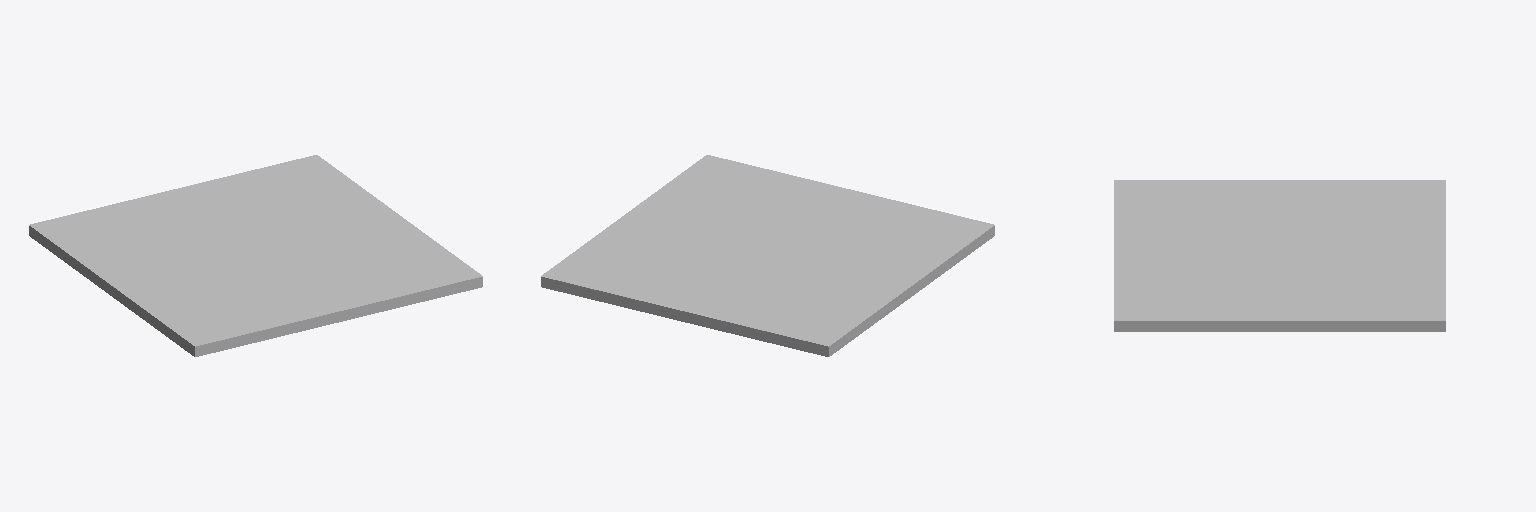
Rendered from newspaper.obj.
3 views of the same model, side by side, from view 1: azimuth 30°, elevation 25°; view 2: azimuth 150°, elevation 25°; view 3: azimuth 270°, elevation 25° (orthographic).
Visible parts, largest first — view 1: object 1; view 2: object 1; view 3: object 1.
Part boxes in pixels (left/top/right/bottom): object 1: left=29, top=155, right=482, bottom=356; object 1: left=541, top=155, right=994, bottom=356; object 1: left=1114, top=180, right=1445, bottom=331.
Bounding box in the file's own units: 5.6 × 0.2 × 5.6.